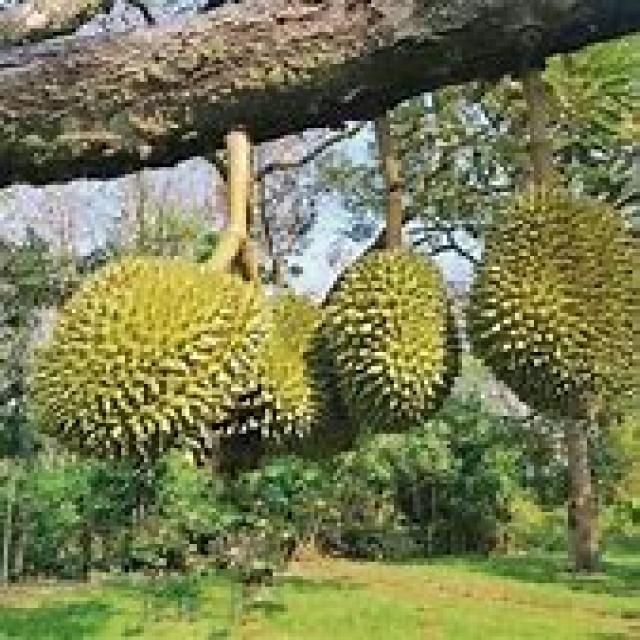immature: (31, 247, 262, 460), (464, 178, 640, 425), (320, 239, 458, 436)
